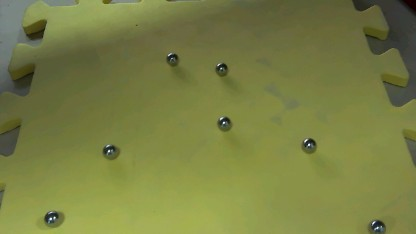ironball: (296, 132, 318, 154), (97, 140, 120, 160), (41, 206, 58, 231), (359, 217, 386, 232), (215, 113, 233, 133), (212, 59, 228, 80), (163, 48, 179, 66)
